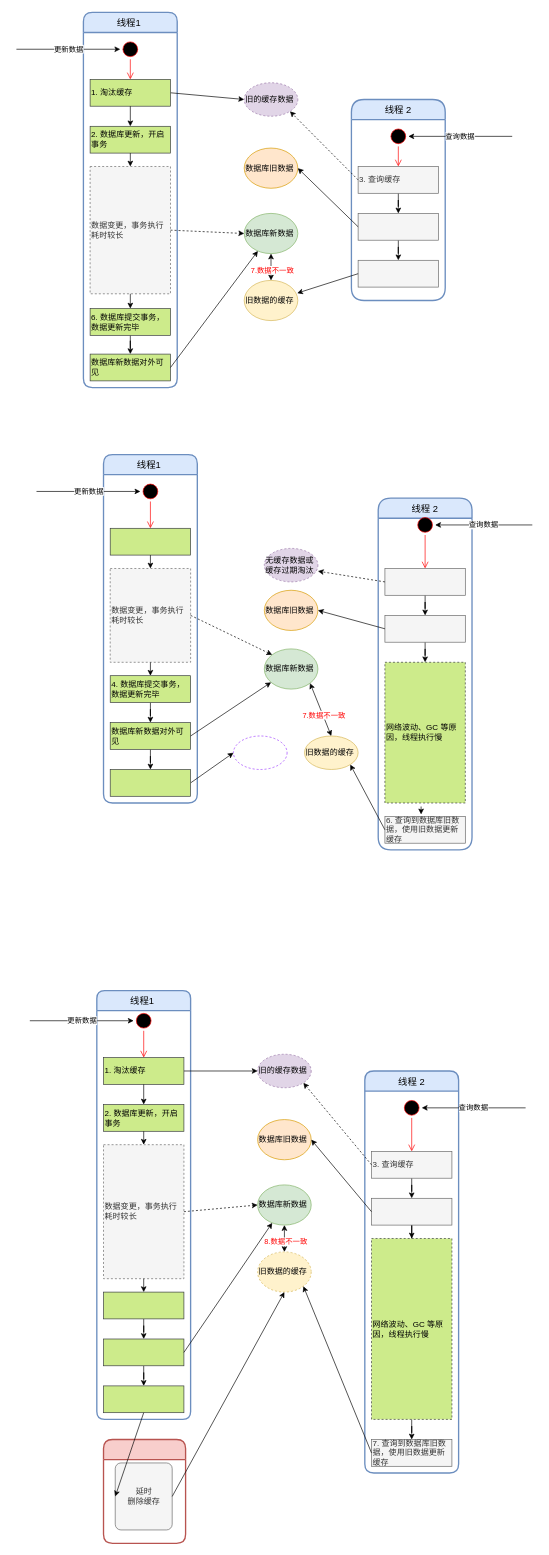
Some shapes in this 549 by 1555 pixel diagram are drawn without their labels. Each missing label, with the box of its shape:
1. 数据库更新，开启事务: (110, 528, 191, 555)
2. 查询缓存: (384, 568, 465, 595)
3. 未查询到缓存，查询数据库: (384, 615, 465, 642)
4. 未查询到缓存，查询数据库: (357, 213, 439, 240)
4. 缓存失效，查询数据库: (371, 1198, 452, 1225)
5. 数据库提交事务，数据更新完毕: (103, 1291, 184, 1319)
5. 查询到数据库旧数据，使用旧数据更新缓存: (357, 260, 439, 287)
5. 淘汰缓存: (110, 769, 191, 796)
6. 生成删除缓存的延时任务: (103, 1385, 184, 1413)
Worker 线程: (103, 1438, 186, 1544)
数据库新数据库对外可见: (103, 1338, 184, 1366)
